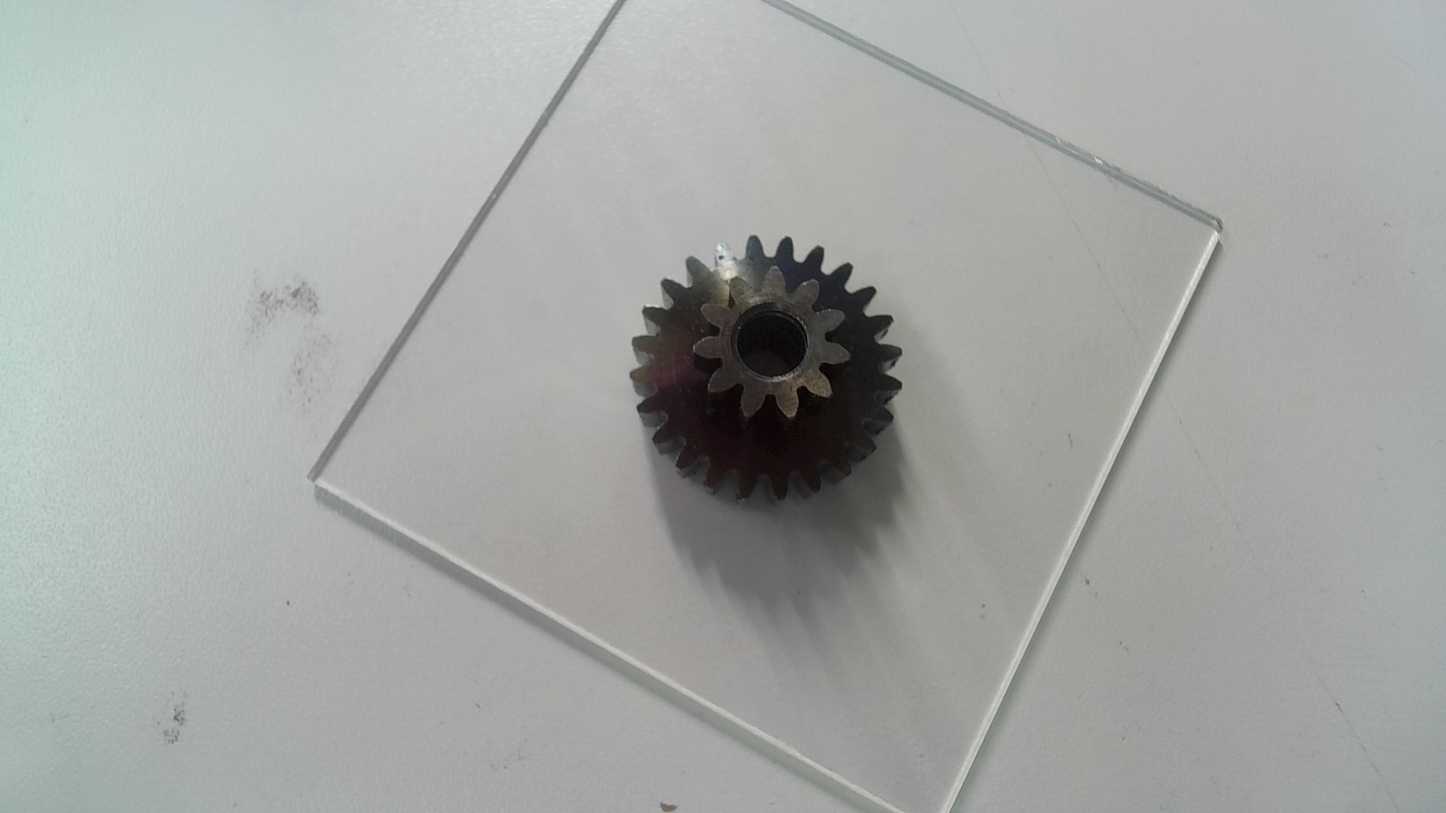gear: (624, 231, 908, 514)
